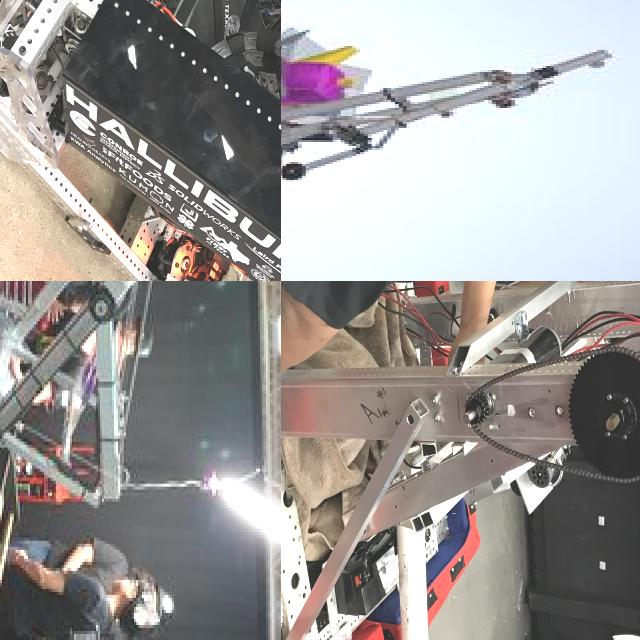FRC-Robots: (281, 281, 640, 640), (281, 0, 628, 239), (0, 0, 281, 281), (0, 281, 166, 618)
